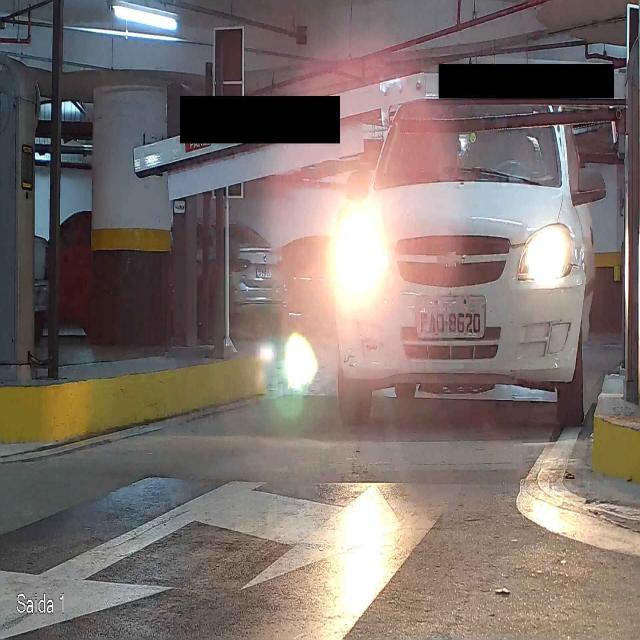old_plate: (415, 293, 486, 340)
